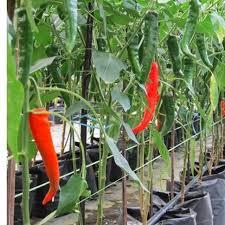Buah Cabai Sehat: (29, 105, 62, 206), (130, 59, 161, 136)
